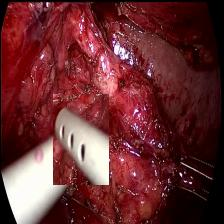Grasper: (165, 148, 213, 202)
Irrigator: (52, 93, 108, 184)
